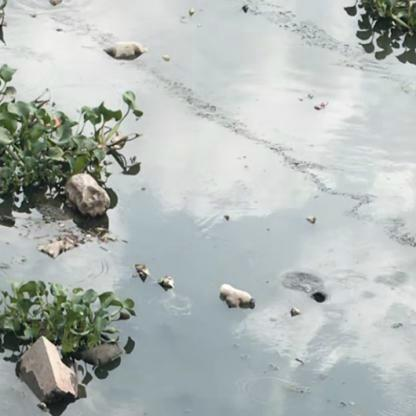Plastic: (216, 284, 260, 304)
